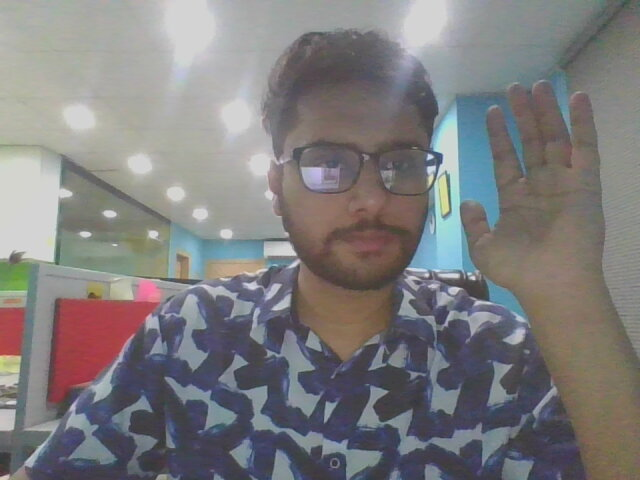hello: (452, 71, 622, 301)
